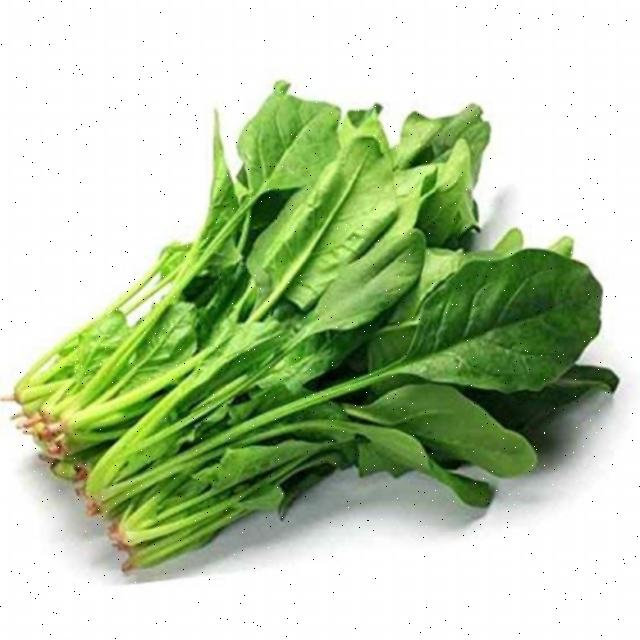Indian Spinach: (39, 136, 597, 560)
